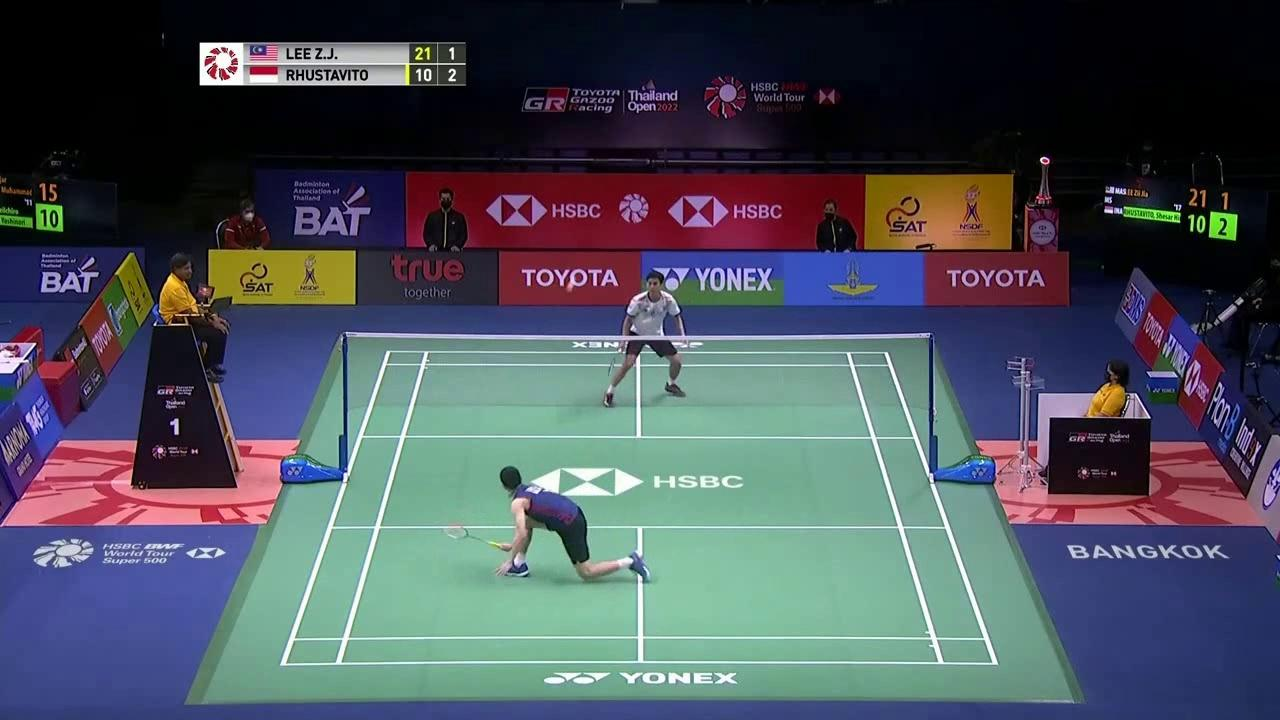racket: (441, 523, 510, 550), (608, 345, 624, 375)
shuttle: (567, 278, 576, 291)
